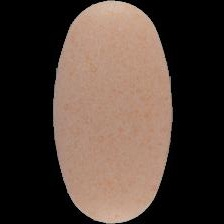64720-139: (0, 0, 224, 224)
